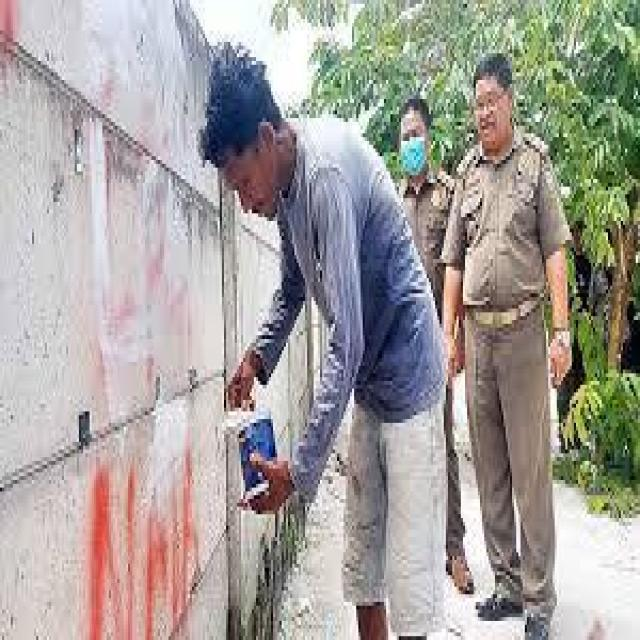nonspitting: (87, 445, 200, 640)
